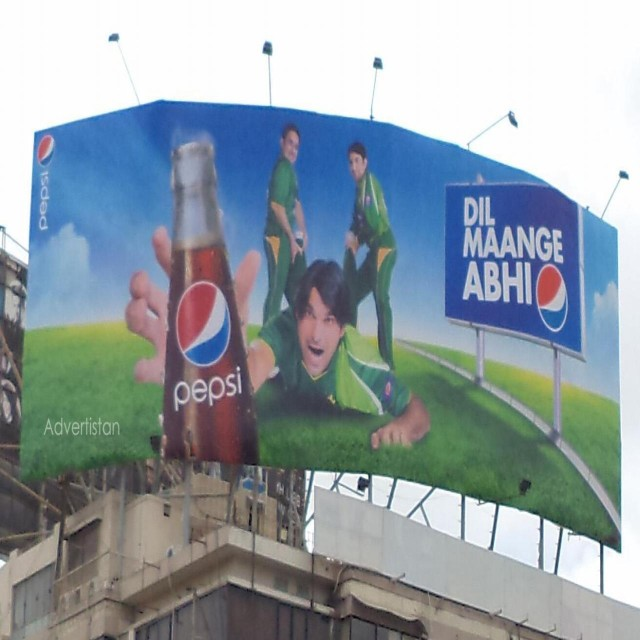pepsi: (176, 282, 233, 366), (536, 263, 570, 333), (36, 133, 56, 168)
